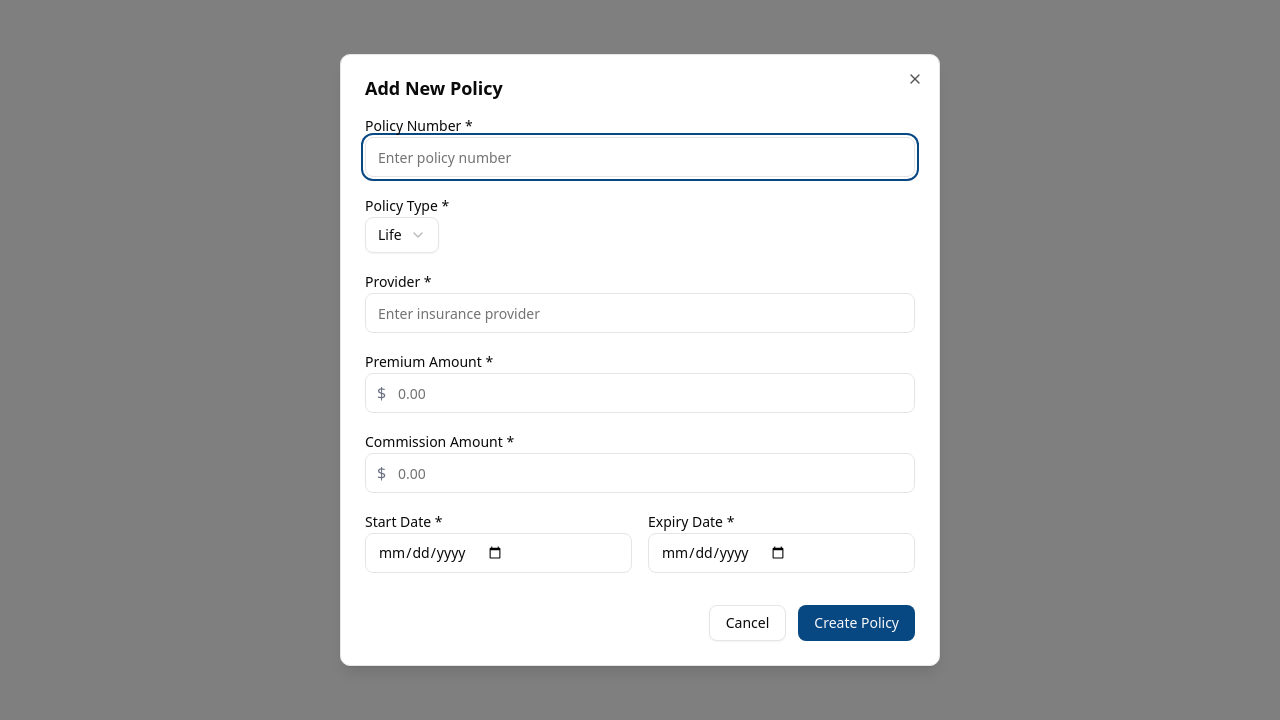
Scenario: Policy Management Integration › Policy Creation Workflow › handles API errors during policy creation
The width and height of the screenshot is (1280, 720).
// Fill out form with valid data
Type "POL-001" into the field labelled "Policy Number *". click: (640, 157)
box: [365,137,915,177]
Type "Test Insurance" into the field labelled "Provider *". click: (640, 313)
box: [365,293,915,333]
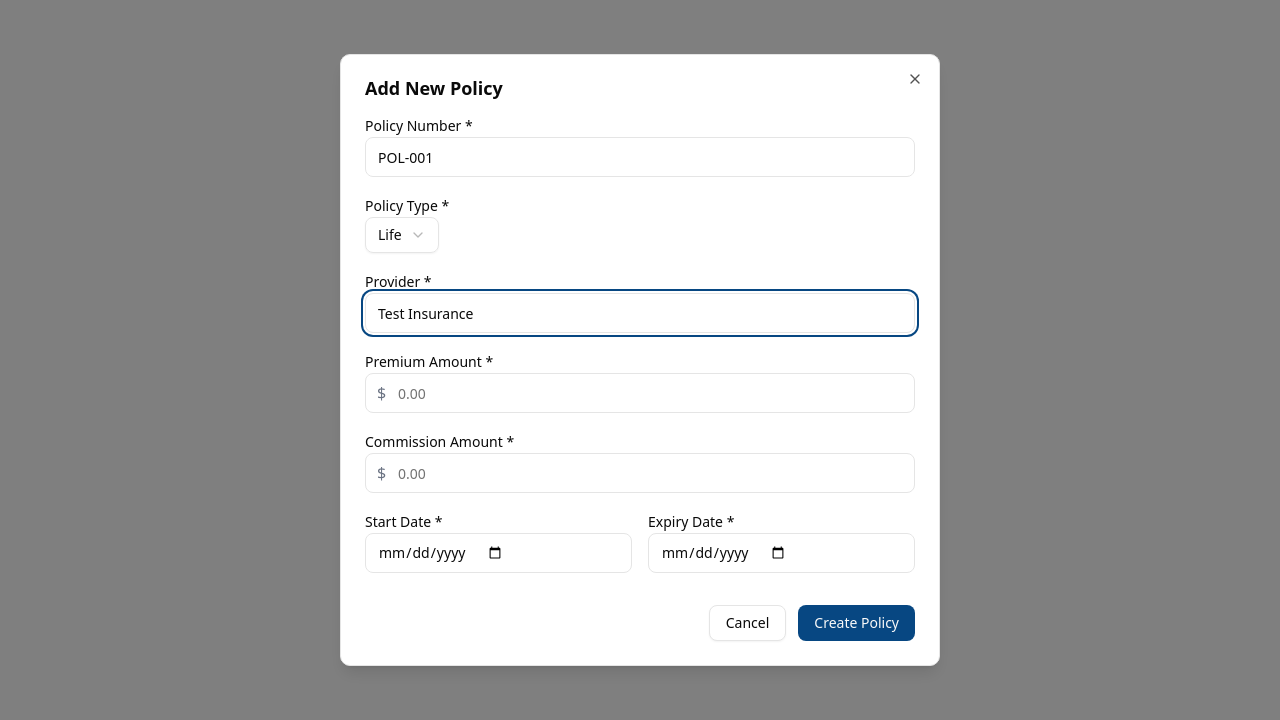
Type "1000" into the field labelled "Premium Amount *". click: (640, 393)
box: [365,373,915,413]
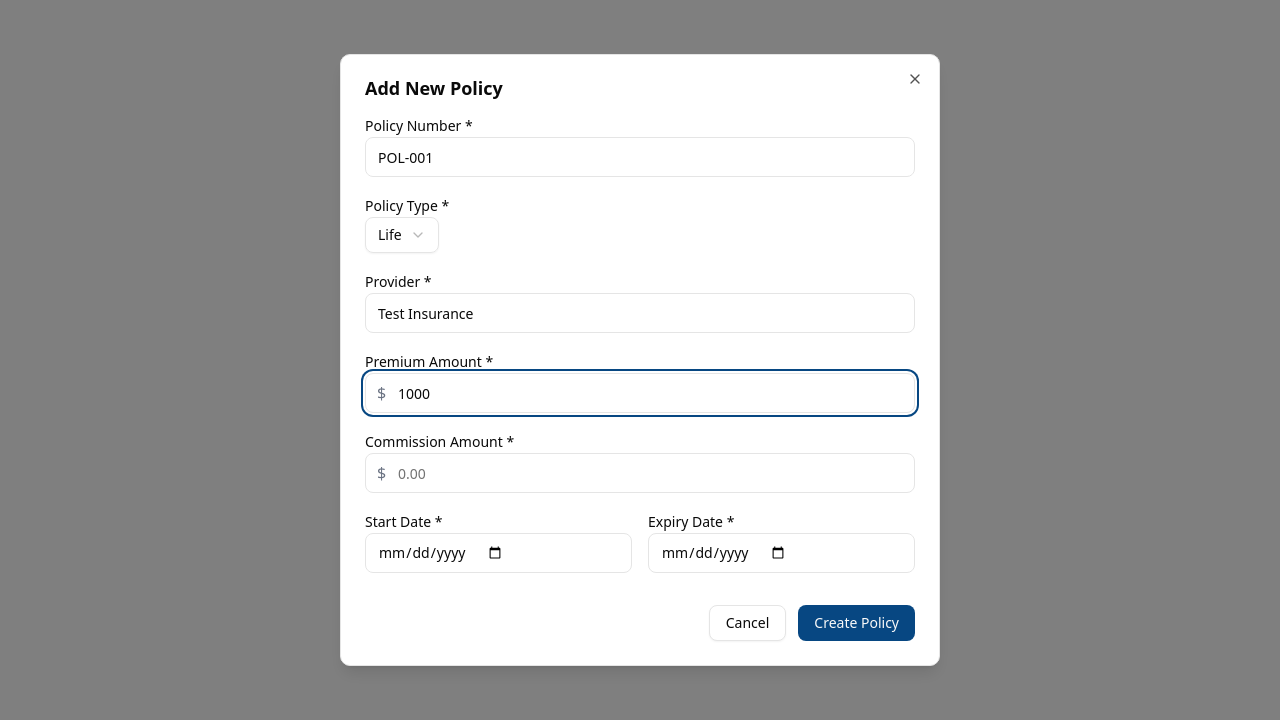
Type "100" into the field labelled "Commission Amount *". click: (640, 473)
box: [365,453,915,493]
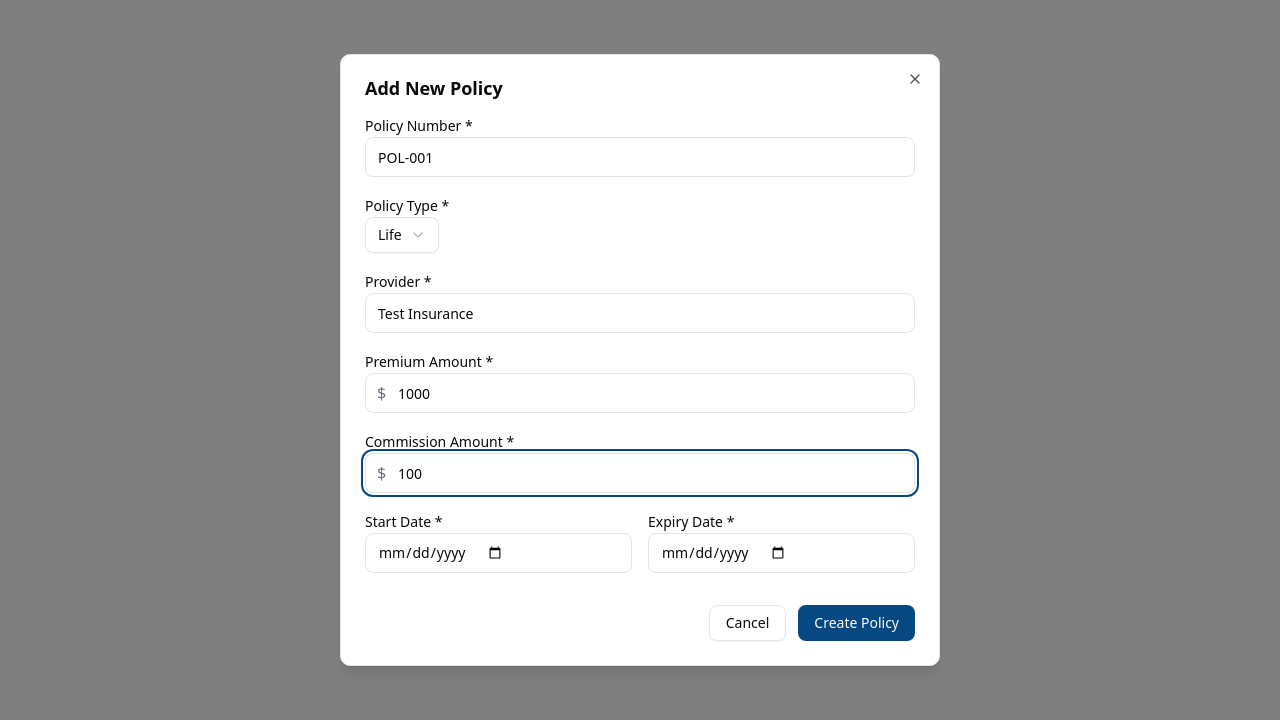
Type "2024-01-01" into the date field labelled "Start Date *". click: (498, 553)
box: [365,533,632,573]
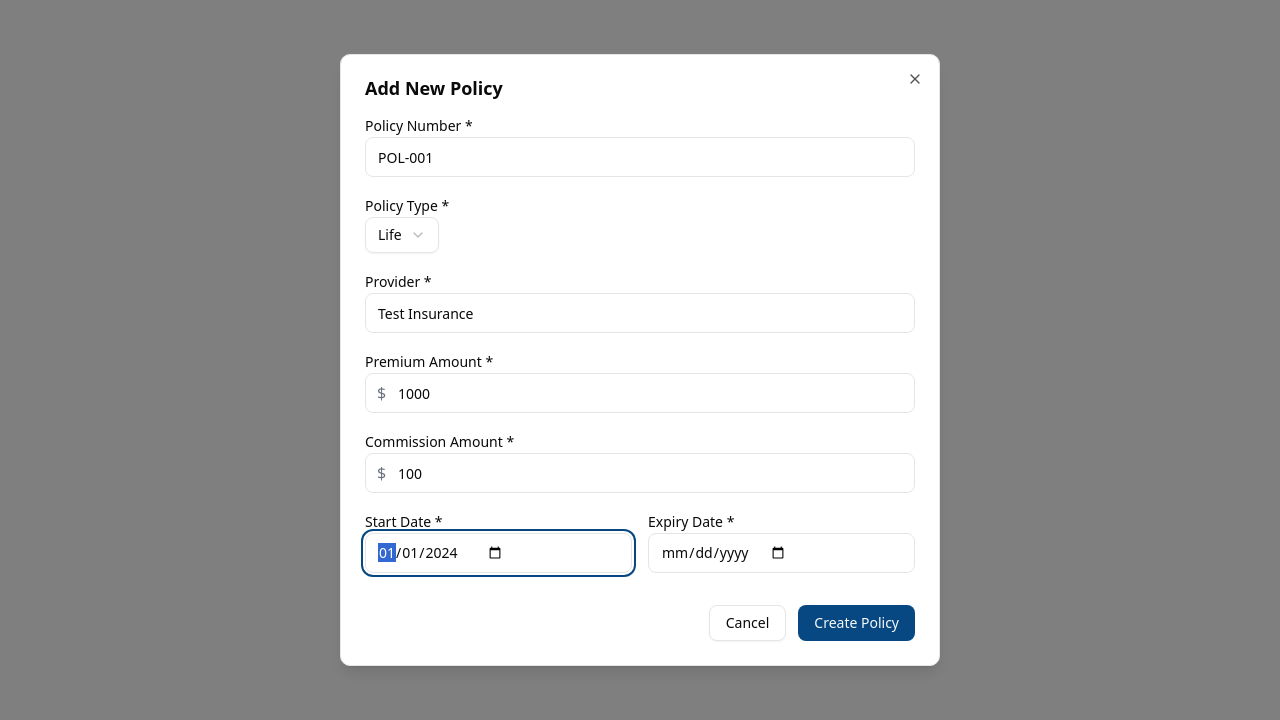
Type "2025-01-01" into the date field labelled "Expiry Date *". click: (782, 553)
box: [648,533,915,573]
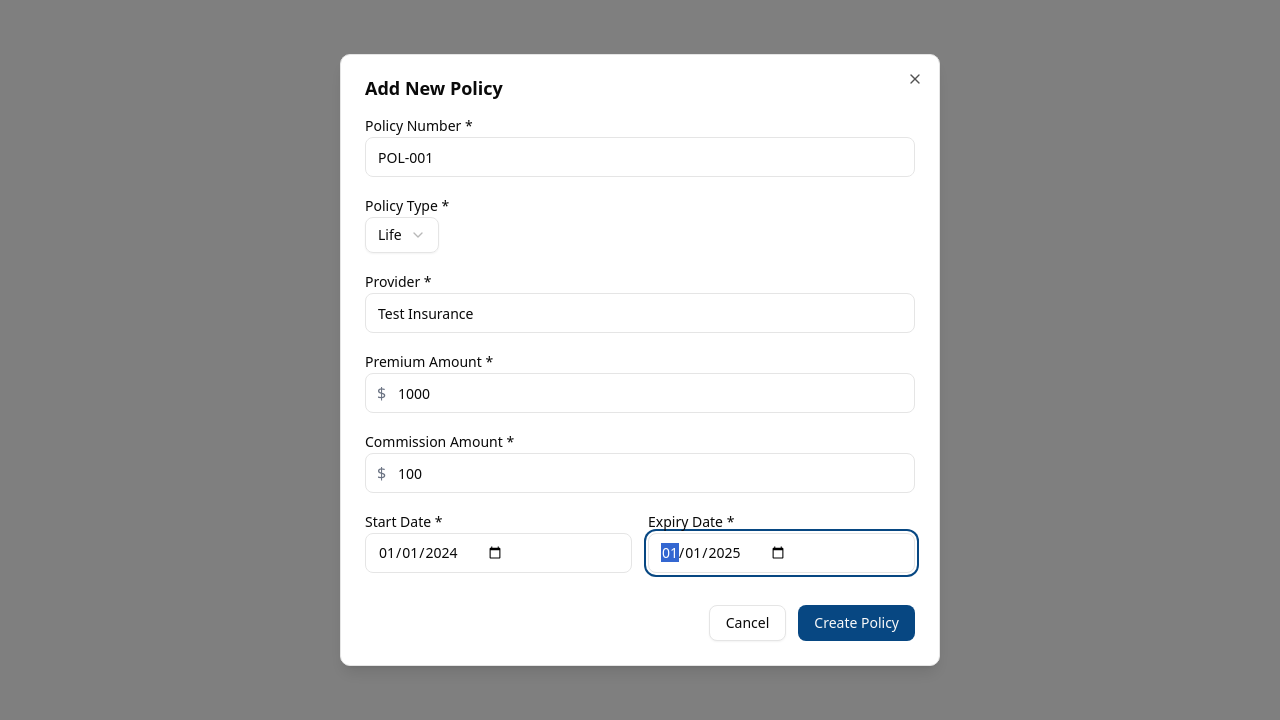
Click the button "Create Policy". click: (857, 623)
box: [798,605,915,641]
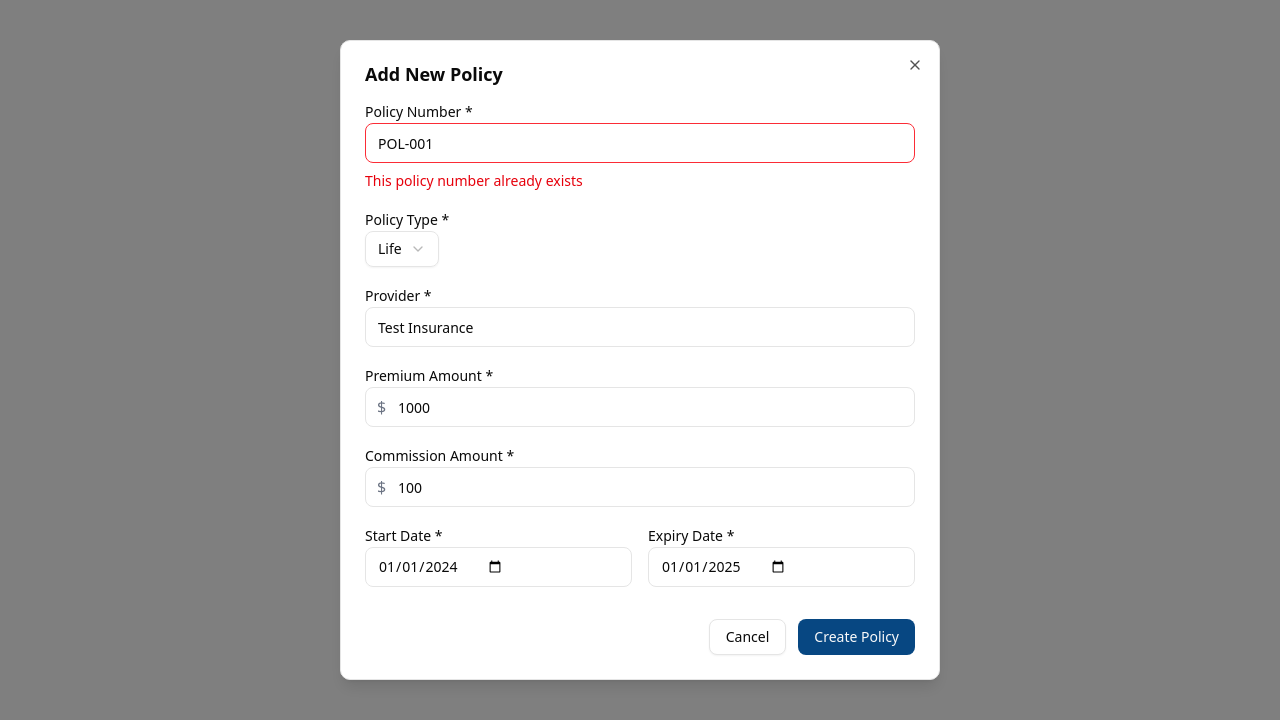
Expected: the text "This policy number already exists" is shown, [365,171,583,190]
